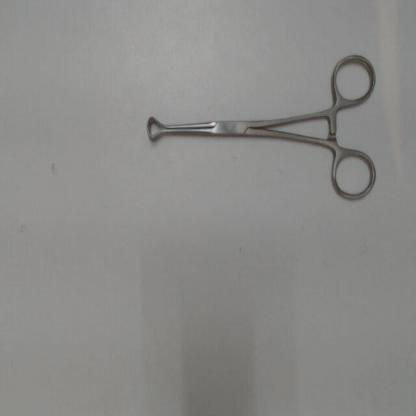Babcock Tissue Forceps: (140, 47, 382, 206)
